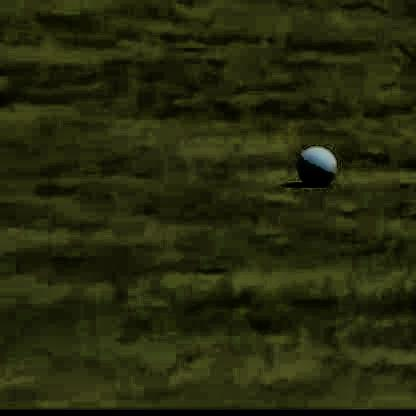golfball: (295, 142, 332, 181)
